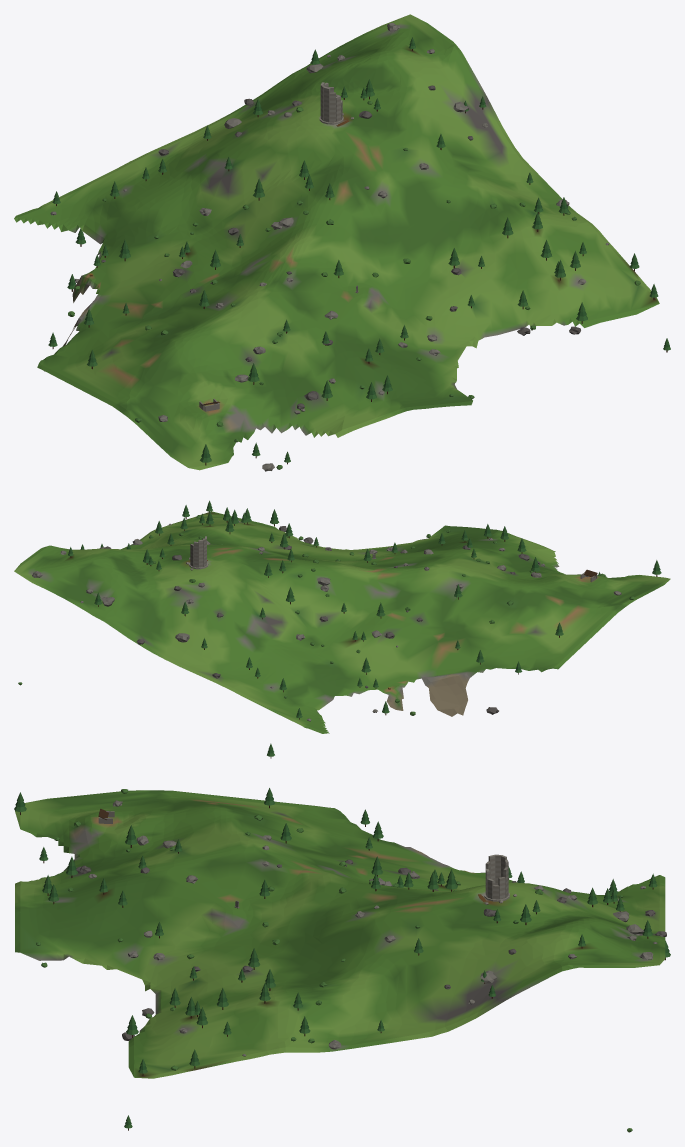
File: arch_isl_lantern_rock_lod1.glb
3 renders of one model, top to bottom at view 1: azimuth 30°, elevation 25°; view 2: azimuth 150°, elevation 25°; view 3: azimuth 270°, elevation 25°, orthographic. The views are drawn at different scales.
Parts seen in each view (by area): view 1: geometry_0; view 2: geometry_0; view 3: geometry_0.
Part boxes in pixels (left/top/right/bottom): geometry_0: left=14, top=14, right=670, bottom=471; geometry_0: left=14, top=500, right=670, bottom=758; geometry_0: left=14, top=788, right=670, bottom=1132.
Size of the model in its own units: 242 by 77.01 by 242.
